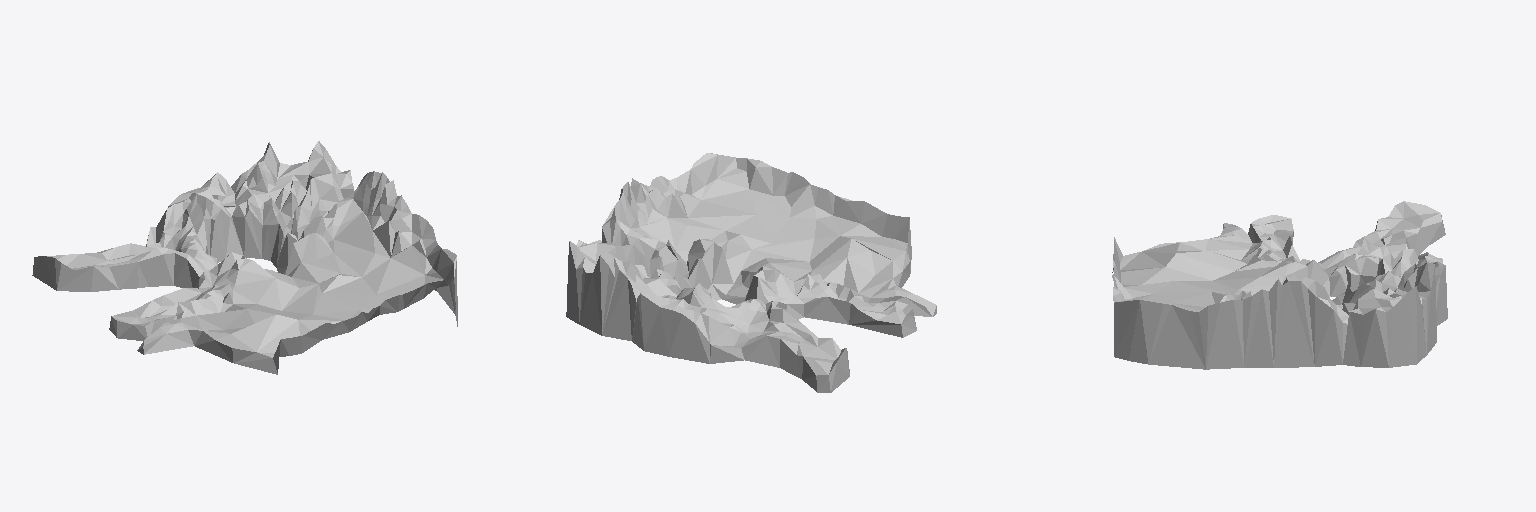
The model's file is TerrainNew1016.obj.
3 renders of one model, left to right at view 1: azimuth 30°, elevation 25°; view 2: azimuth 150°, elevation 25°; view 3: azimuth 270°, elevation 25°, orthographic.
Parts seen in each view (by area): view 1: Plane_Plane.003; view 2: Plane_Plane.003; view 3: Plane_Plane.003.
Boxes of the visible parts, <box> form: Plane_Plane.003: <box>32,141,457,374</box>; Plane_Plane.003: <box>566,153,936,392</box>; Plane_Plane.003: <box>1112,201,1447,369</box>.
Bounding box in the file's own units: 1.9 × 0.5939 × 1.92.